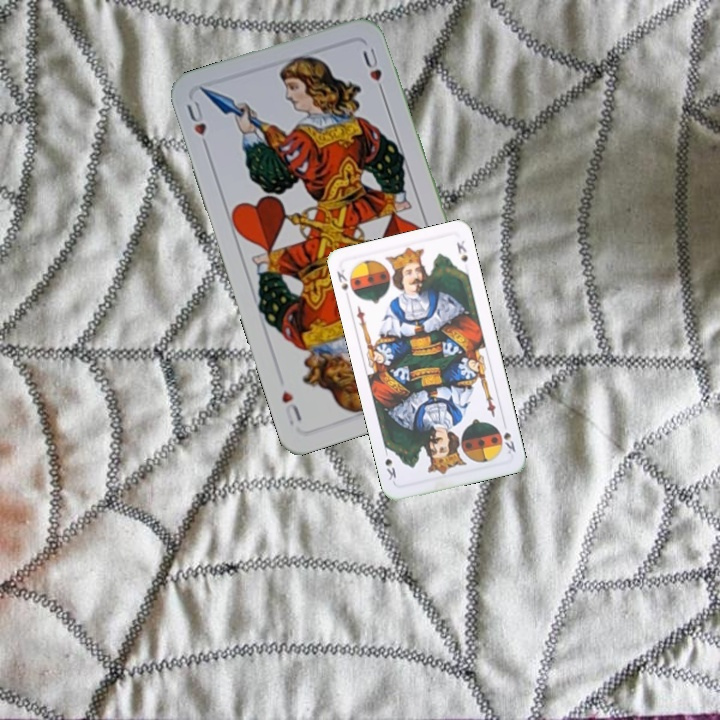HU: (182, 97, 211, 154)
SK: (332, 265, 351, 293), (500, 428, 518, 457)
